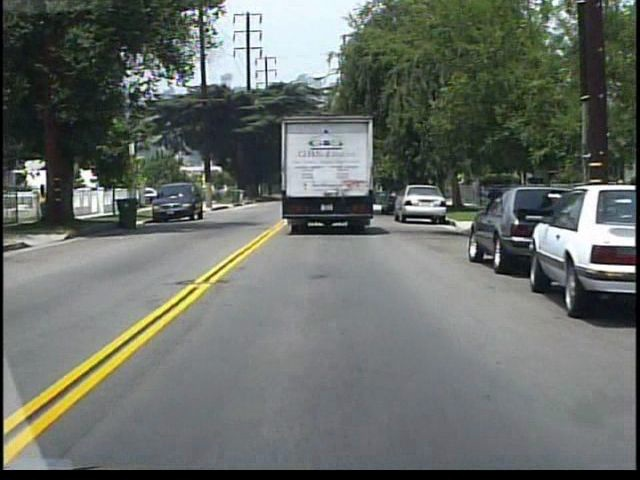person: (38, 181, 52, 219)
